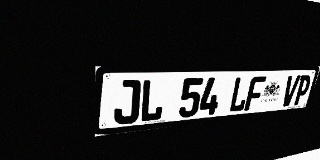4: (198, 77, 223, 116)
5: (178, 78, 204, 118)
F: (244, 76, 266, 111)
J: (113, 80, 141, 125)
L: (139, 79, 166, 123), (228, 77, 251, 113)
P: (292, 75, 312, 106)
V: (280, 75, 301, 107)
